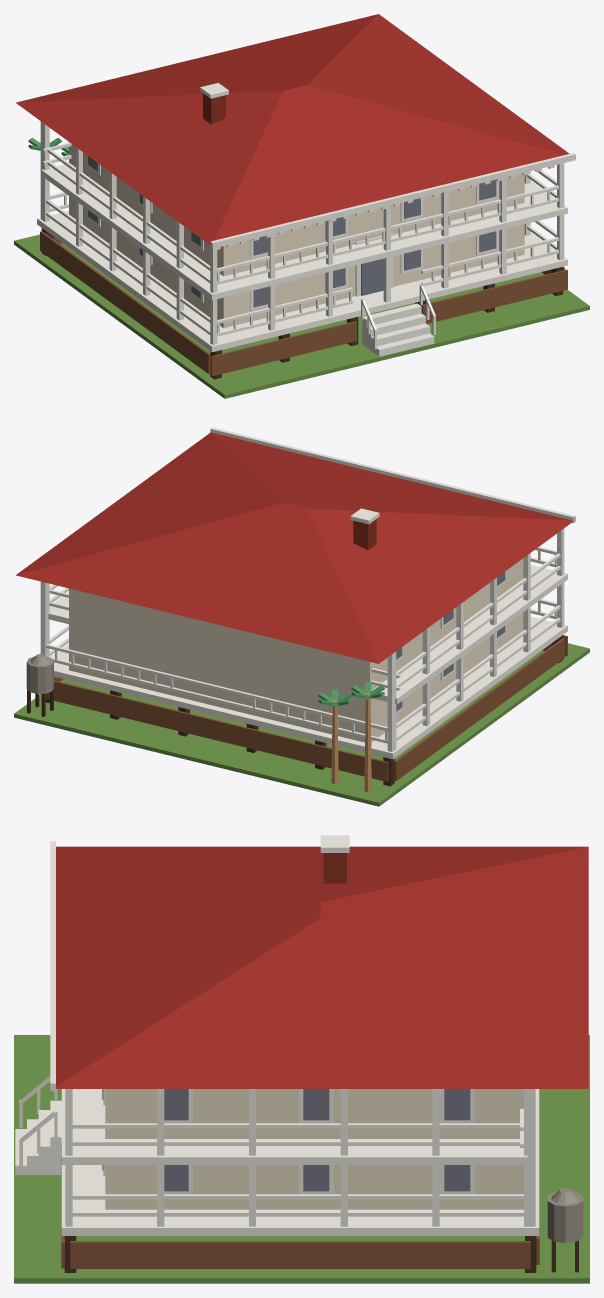
File: house-2x2-2f-queenslander-a.glb
3 views of the same model, one above another, from view 1: azimuth 30°, elevation 25°; view 2: azimuth 150°, elevation 25°; view 3: azimuth 270°, elevation 25° (orthographic). The views are drawn at different scales.
Visible parts, largest first — view 1: house-2x2-2f-queenslander-a; view 2: house-2x2-2f-queenslander-a; view 3: house-2x2-2f-queenslander-a.
Part boxes in pixels (<box>): house-2x2-2f-queenslander-a: <box>14,14,589,398</box>; house-2x2-2f-queenslander-a: <box>14,427,589,806</box>; house-2x2-2f-queenslander-a: <box>14,835,589,1283</box>.
Bounding box in the file's own units: 1.99 × 1.03 × 1.99.
1 material, 1 textured.
